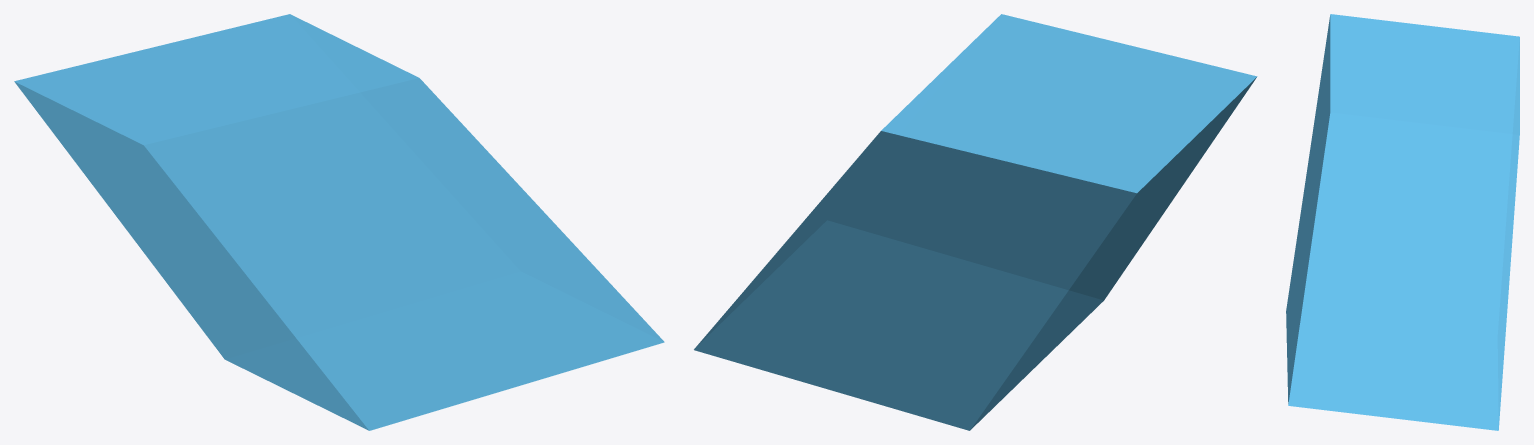
Rendered from Event_421127236_HBrechit_33.fbx.
3 views of the same model, side by side, from view 1: azimuth 30°, elevation 25°; view 2: azimuth 150°, elevation 25°; view 3: azimuth 270°, elevation 25° (orthographic). The views are drawn at different scales.
Visible parts, largest first — view 1: Model; view 2: Model; view 3: Model.
Boxes of the visible parts, box(x1,y1,x2,y2) form: Model: box(14, 14, 664, 430); Model: box(694, 14, 1257, 430); Model: box(1286, 14, 1519, 430).
Size of the model in its own units: 0.8728 by 0.5856 by 0.4912.
